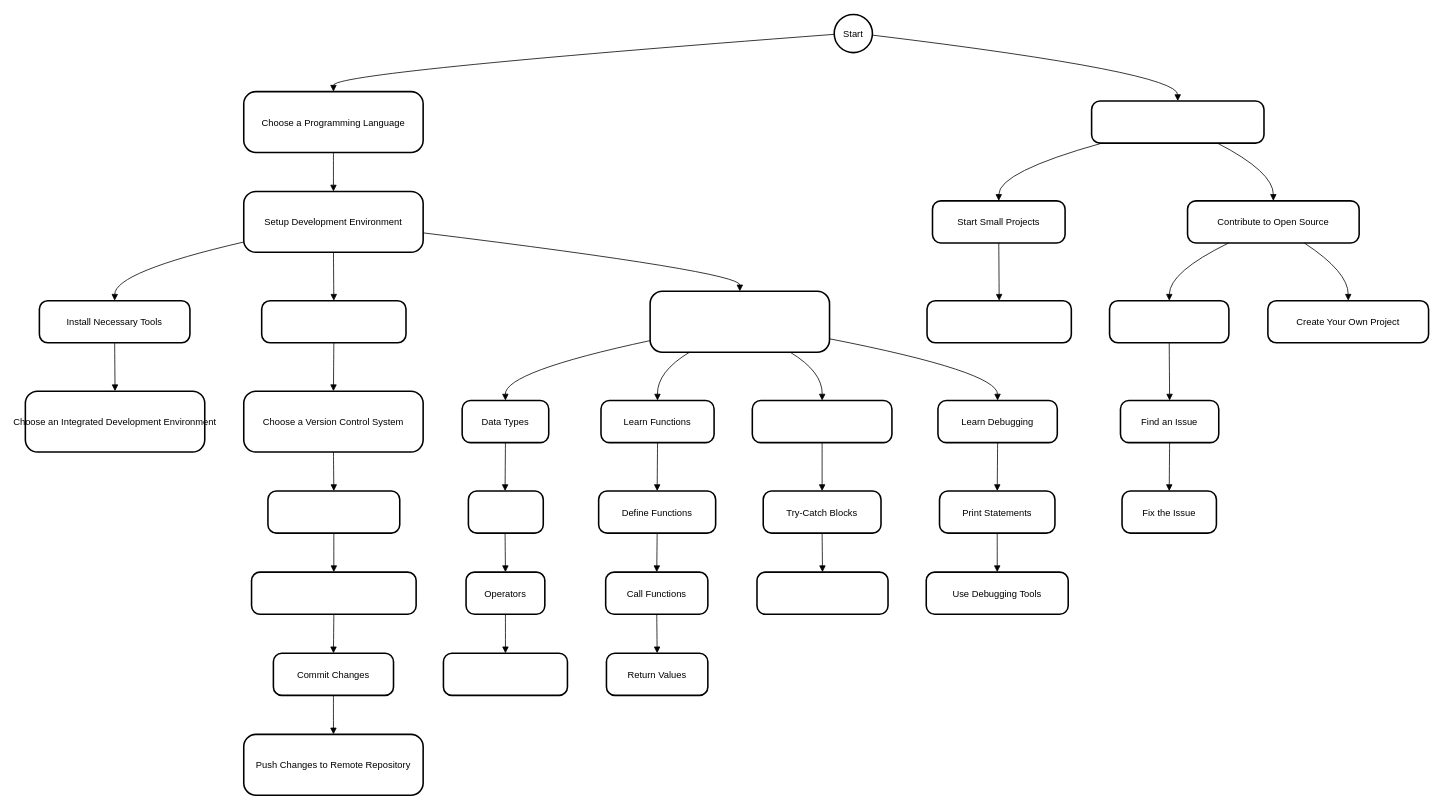
Some shapes in this 1443 by 809 pixel diagram are drawn without their labels. Each missing label, with the box of its shape:
Add Files to Staging Area: (250, 571, 417, 615)
Choose a Project: (1108, 300, 1229, 343)
Control Structures: (442, 652, 568, 696)
Exception Handling: (756, 571, 888, 615)
Increment Complexity: (926, 300, 1072, 343)
Initialize Repository: (267, 490, 400, 534)
Learn Basic Programming Concepts: (649, 290, 830, 353)
Learn Error Handling: (751, 399, 892, 443)
Learn Version Control: (261, 300, 406, 343)
Practice and Build Projects: (1090, 100, 1264, 144)
Variables: (467, 490, 544, 534)
